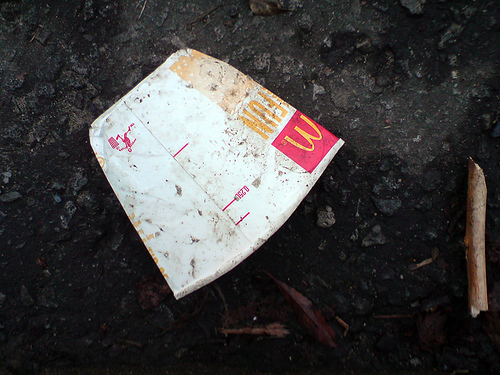litter: (86, 47, 346, 299)
